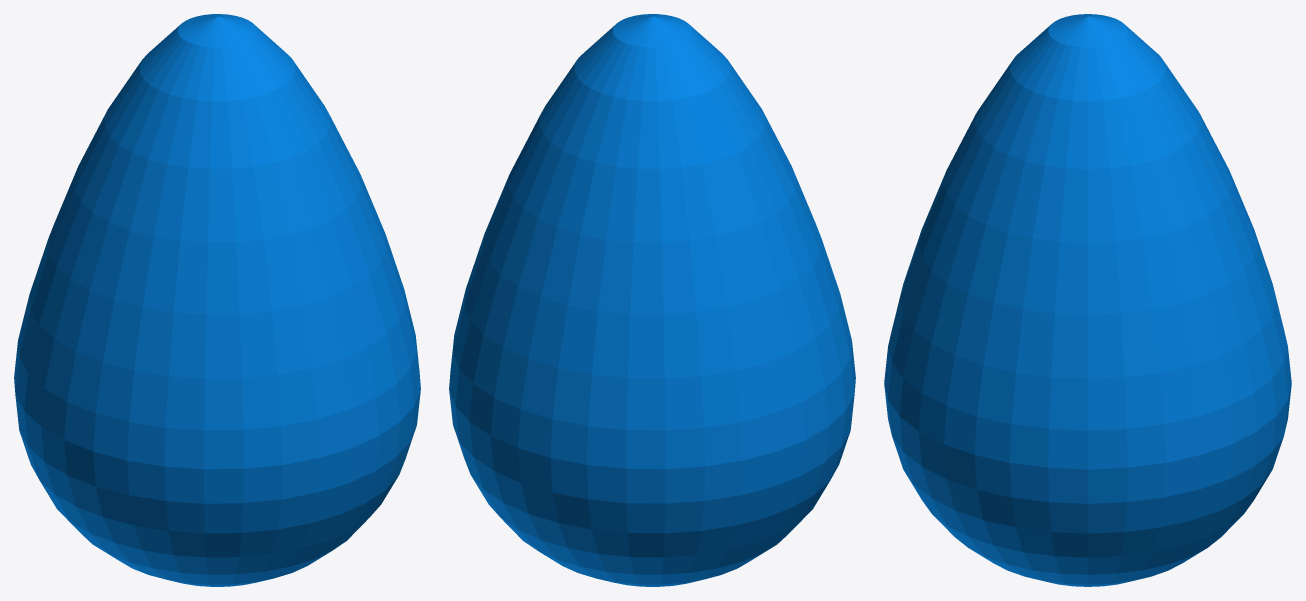
The model's file is Blue.fbx.
3 views of the same model, side by side, from view 1: azimuth 30°, elevation 25°; view 2: azimuth 150°, elevation 25°; view 3: azimuth 270°, elevation 25° (orthographic).
Visible parts, largest first — view 1: Sphere; view 2: Sphere; view 3: Sphere.
Boxes of the visible parts, <box> form: Sphere: <box>14,14,420,586</box>; Sphere: <box>449,14,855,586</box>; Sphere: <box>884,14,1291,586</box>.
Size of the model in its own units: 2 by 2.99 by 2.
